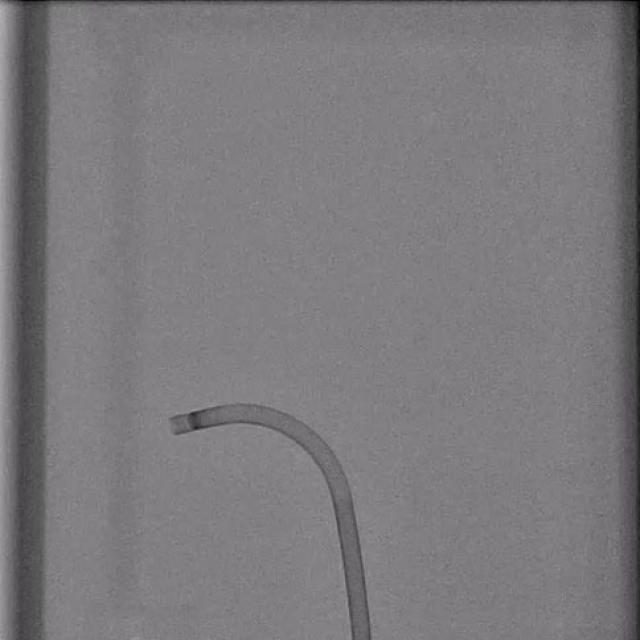bend: (331, 490, 352, 503)
entry: (350, 634, 370, 640)
marker: (187, 410, 203, 430)
tip: (168, 415, 180, 436)
